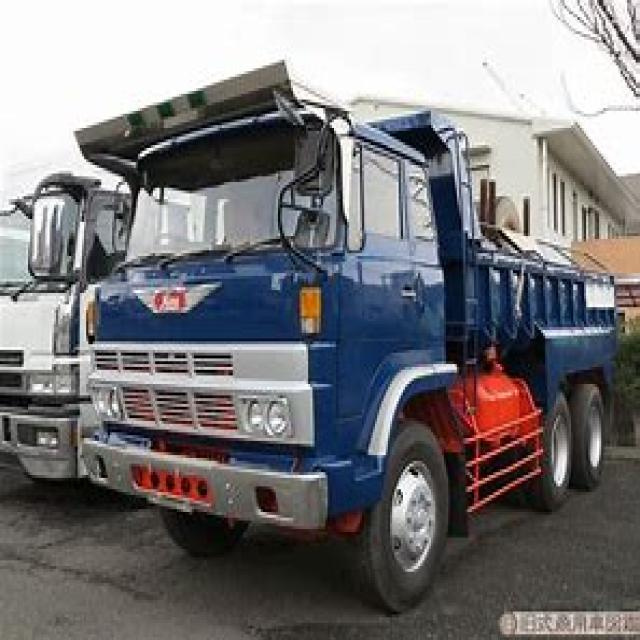dump_truck: (69, 62, 614, 574)
